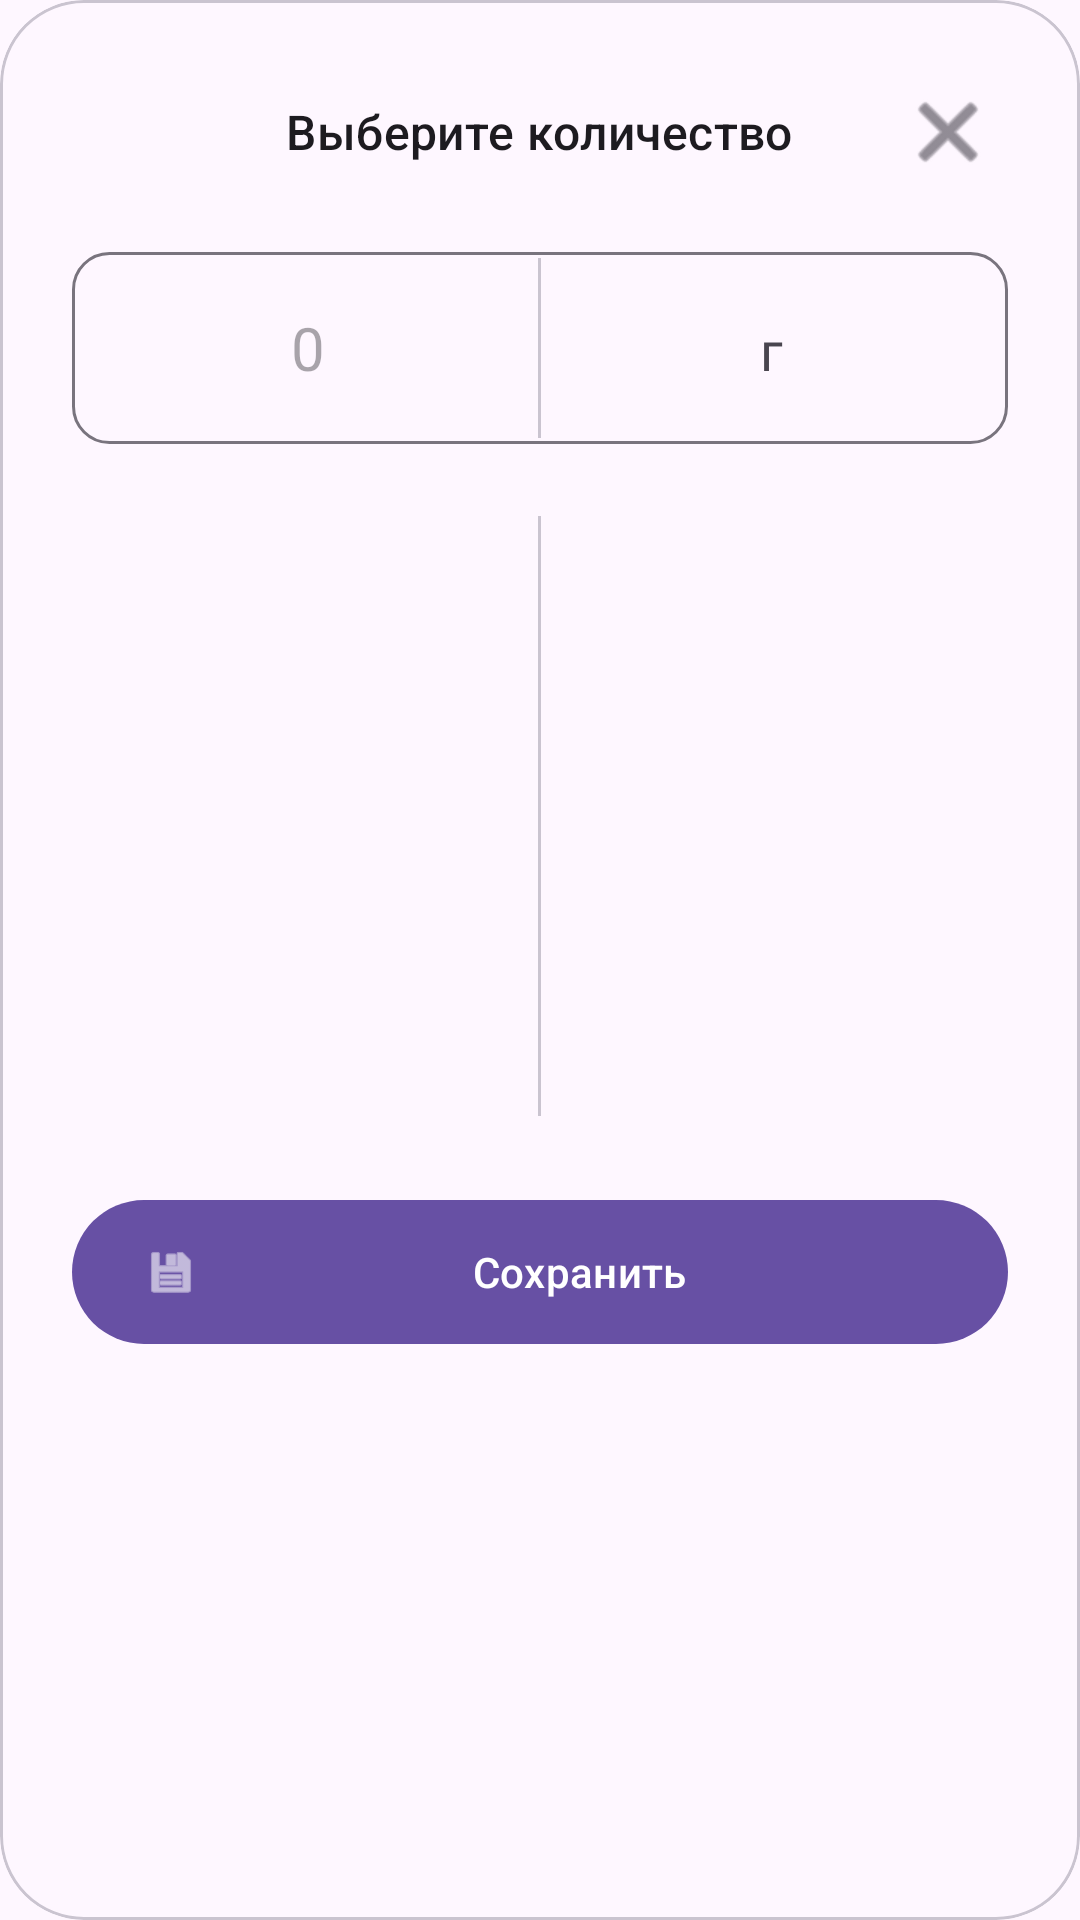

Named icons in this screenshot (1080px x 1920px) and their bounding boxes, box(x1, y1, x2, y2):
Отмена: box(918, 102, 978, 162)
